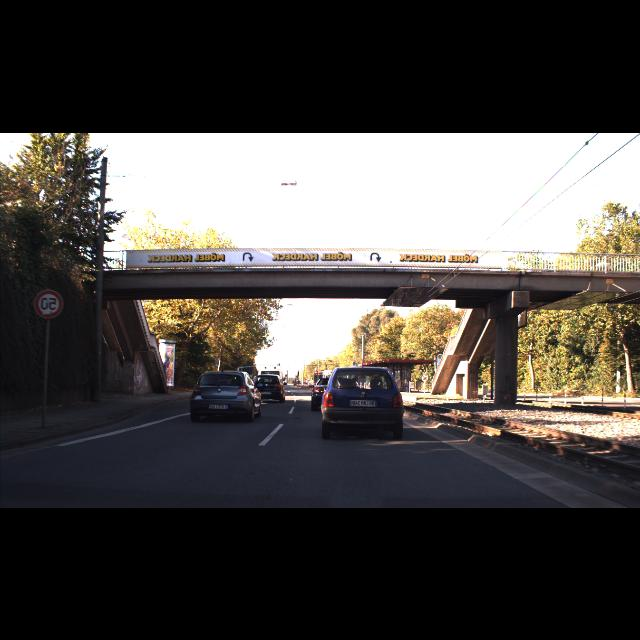prohibitory: (34, 288, 64, 318)
